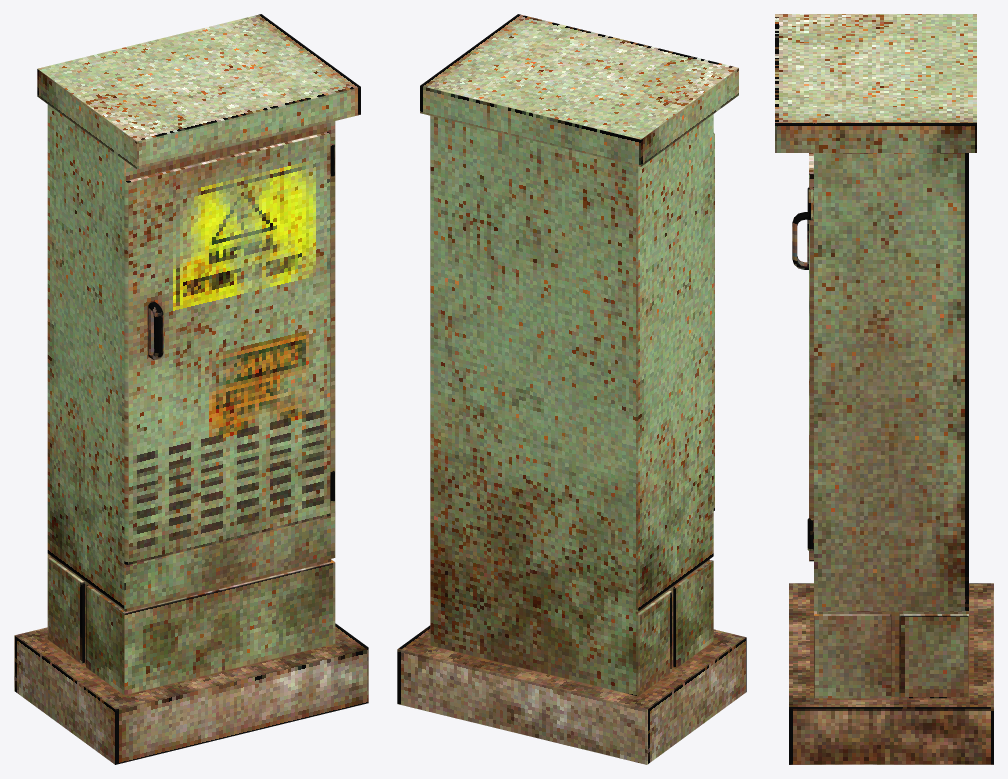
The model's file is Roadside_Junction_Box_001.glb.
The picture shows the model from 3 angles, left to right: view 1: azimuth 30°, elevation 25°; view 2: azimuth 150°, elevation 25°; view 3: azimuth 270°, elevation 25°; orthographic projection. The views are drawn at different scales.
Visible parts, largest first — view 1: Roadside_Junction_Box_001; view 2: Roadside_Junction_Box_001; view 3: Roadside_Junction_Box_001.
Part boxes in pixels (bbox=[...]): Roadside_Junction_Box_001: bbox=[14, 14, 368, 764]; Roadside_Junction_Box_001: bbox=[397, 14, 746, 764]; Roadside_Junction_Box_001: bbox=[775, 14, 993, 764].
Bounding box in the file's own units: 0.955 × 2.25 × 0.705.
Materials: 1 (1 with a texture image).
